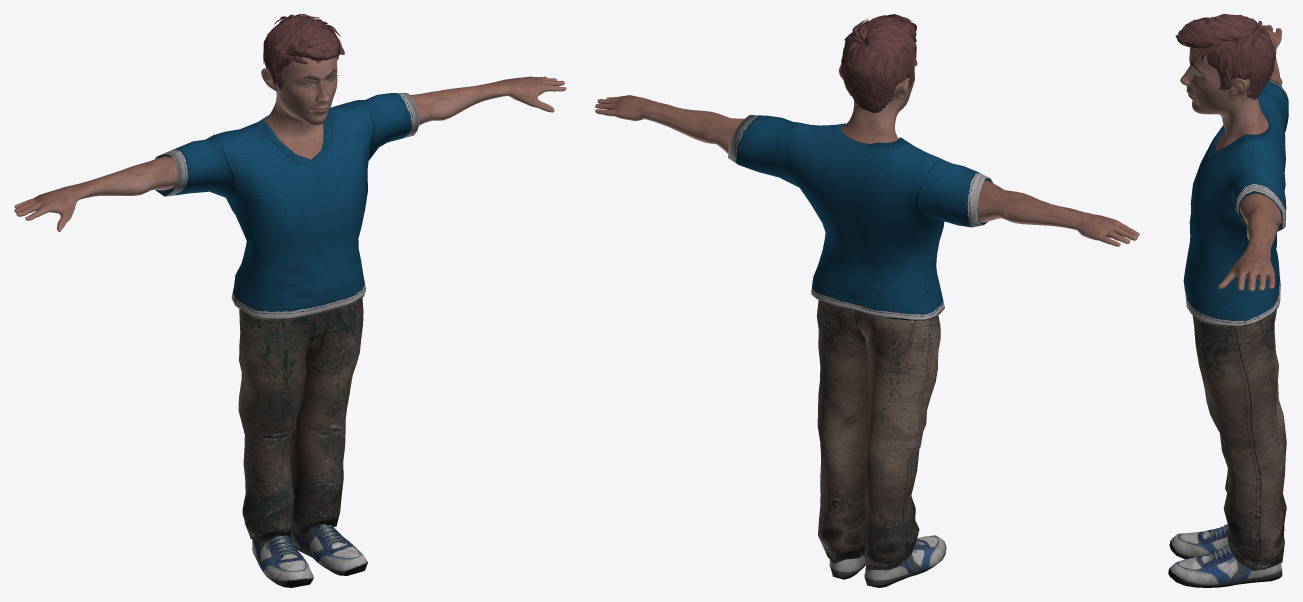
File: Boy B.obj
The picture shows the model from 3 angles, left to right: view 1: azimuth 30°, elevation 25°; view 2: azimuth 150°, elevation 25°; view 3: azimuth 270°, elevation 25°; orthographic projection.
Visible parts, largest first — view 1: Tops, Bottoms, Body, Shoes, Hair; view 2: Tops, Bottoms, Body, Hair, Shoes; view 3: Bottoms, Tops, Body, Hair, Shoes.
Boxes of the visible parts, x1,y1,x2,y2 form: Tops: (155, 93, 419, 320); Bottoms: (238, 297, 363, 541); Body: (14, 56, 566, 231); Shoes: (252, 524, 367, 587); Hair: (263, 14, 344, 90); Tops: (728, 115, 992, 320); Bottoms: (817, 300, 940, 570); Body: (595, 59, 1139, 246); Hair: (840, 14, 916, 112); Shoes: (829, 535, 946, 587); Bottoms: (1192, 309, 1286, 570); Tops: (1183, 78, 1288, 326); Body: (1180, 24, 1282, 291); Hair: (1175, 14, 1275, 99); Shoes: (1168, 524, 1282, 587).
Size of the model in its own units: 160 by 153 by 30.3.
5 materials, 5 textured.
